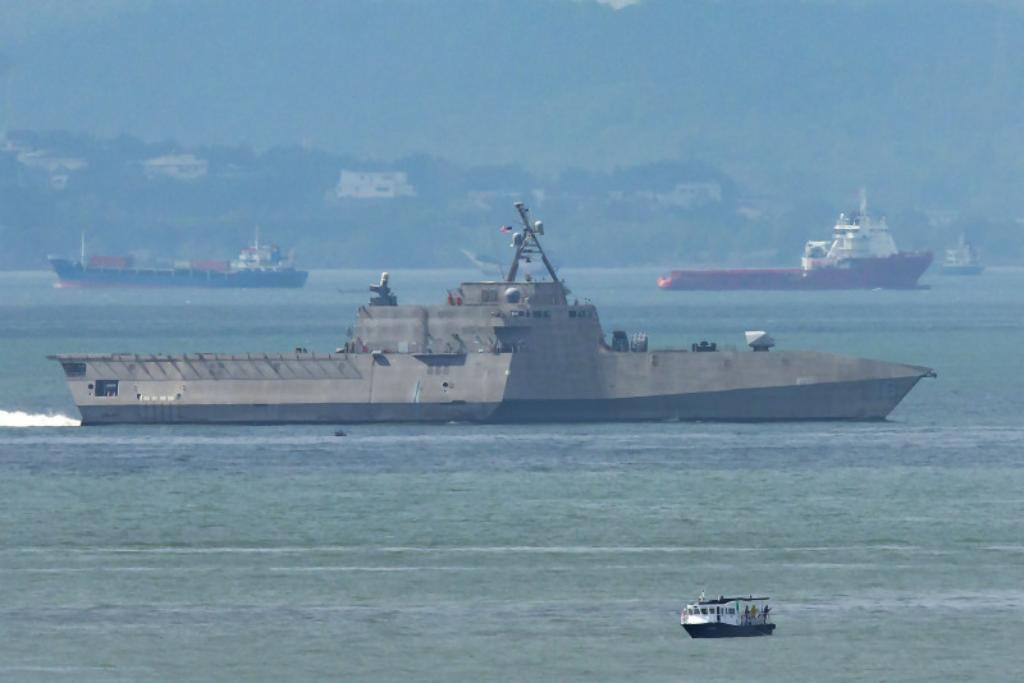Warship: (44, 195, 940, 427)
